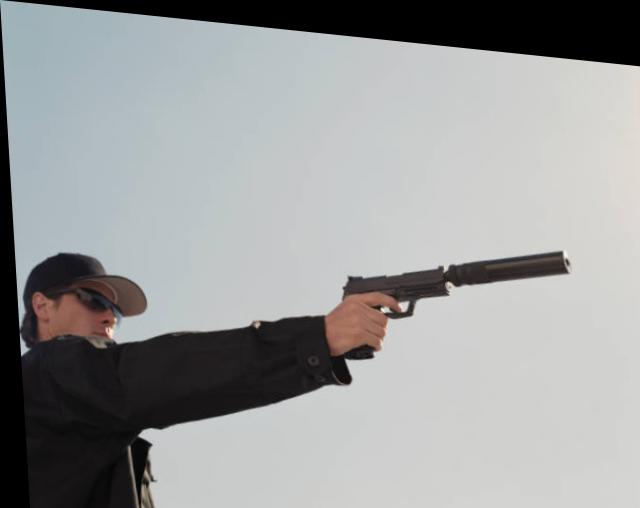other: (11, 240, 169, 506)
